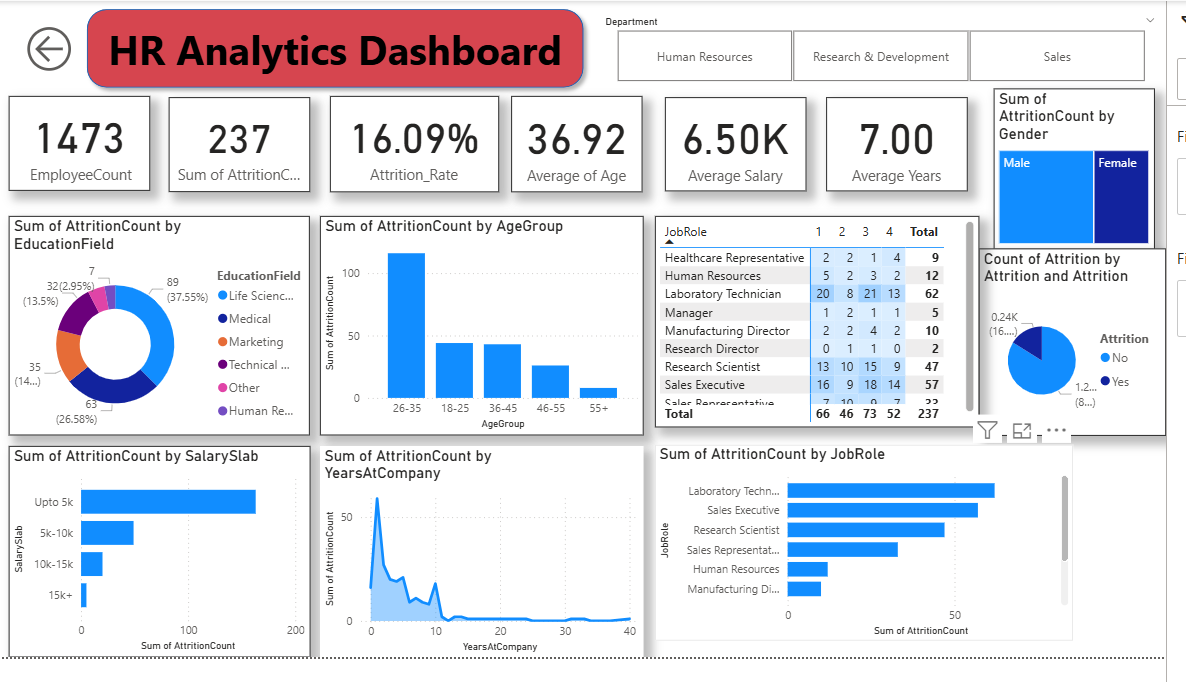

This screenshot's page, from the dashboard's own definition file:
{"tool":"powerbi","page":{"name":"HR Analytics Dashboard","canvas":[1280,720],"ordinal":1},"visuals":[{"type":"shape","box":[86.9,0,563,104.1],"z":0},{"type":"card","fields":{"Values":["Sum(HR_Analytics.EmployeeCount)"]},"box":[9.6,104.3,155.1,104.3],"z":1000},{"type":"card","fields":{"Values":["Sum(HR_Analytics.AttritionCount)"]},"box":[185.2,105.7,155.1,104.3],"z":2000},{"type":"card","fields":{"Values":["HR_Analytics.Attrition_Rate"]},"box":[362.3,104.3,185.2,105.7],"z":3000},{"type":"card","fields":{"Values":["Avg(HR_Analytics.Age)"]},"box":[561.2,104.3,144.1,105.7],"z":4000},{"type":"card","fields":{"Values":["Avg(HR_Analytics.MonthlyIncome)"]},"box":[730,105.7,155.1,102.9],"z":5000},{"type":"card","fields":{"Values":["Avg(HR_Analytics.YearsAtCompany)"]},"box":[907,105.7,155.1,102.9],"z":6000},{"type":"slicer","fields":{"Values":["HR_Analytics.Department"]},"box":[651.4,11.4,628.6,84.1],"z":7000},{"type":"treemap","fields":{"Group":["HR_Analytics.Gender"],"Values":["Sum(HR_Analytics.AttritionCount)"]},"box":[1090.4,95.5,176.7,176.7],"z":8000},{"type":"donutChart","fields":{"Y":["Sum(HR_Analytics.AttritionCount)"],"Category":["HR_Analytics.EducationField"]},"box":[10,236.6,330.7,240.9],"z":9000},{"type":"clusteredColumnChart","fields":{"Category":["HR_Analytics.AgeGroup"],"Y":["Sum(HR_Analytics.AttritionCount)"]},"box":[350.6,236.6,354.9,240.9],"z":10000},{"type":"clusteredBarChart","fields":{"Y":["Sum(HR_Analytics.AttritionCount)"],"Category":["HR_Analytics.SalarySlab"]},"box":[10,488,331,232],"z":11000},{"type":"areaChart","fields":{"Y":["Sum(HR_Analytics.AttritionCount)"],"Category":["HR_Analytics.YearsAtCompany"]},"box":[351,488,355,232],"z":12000},{"type":"pieChart","fields":{"Category":["HR_Analytics.Attrition"],"Series":["HR_Analytics.Attrition"],"Y":["CountNonNull(HR_Analytics.Attrition)"]},"box":[1074.7,272.2,205.3,205.3],"z":13000},{"type":"pivotTable","fields":{"Rows":["HR_Analytics.JobRole"],"Values":["Sum(HR_Analytics.AttritionCount)"],"Columns":["HR_Analytics.JobSatisfaction"]},"box":[718.4,236.6,356.3,232.3],"z":14000},{"type":"clusteredBarChart","fields":{"Category":["HR_Analytics.JobRole"],"Y":["Sum(HR_Analytics.AttritionCount)"]},"box":[718.4,487.5,459,215.2],"z":15000},{"type":"actionButton","box":[22.8,21.4,128.3,61.3],"z":16000}]}

Visuals, with their boxes in screenshot pixels (x1, y1, x2, y2):
shape: 73:0:588:92
card - Sum(HR_Analytics.EmployeeCount): 3:92:144:188
card - Sum(HR_Analytics.AttritionCount): 163:93:305:189
card - HR_Analytics.Attrition_Rate: 325:92:494:189
card - Avg(HR_Analytics.Age): 507:92:638:189
card - Avg(HR_Analytics.MonthlyIncome): 661:93:803:188
card - Avg(HR_Analytics.YearsAtCompany): 823:93:964:188
slicer - HR_Analytics.Department: 589:7:1163:84
treemap - HR_Analytics.Gender x Sum(HR_Analytics.AttritionCount): 990:84:1152:246
donutChart - Sum(HR_Analytics.AttritionCount) x HR_Analytics.EducationField: 3:213:305:433
clusteredColumnChart - HR_Analytics.AgeGroup x Sum(HR_Analytics.AttritionCount): 314:213:638:433
clusteredBarChart - Sum(HR_Analytics.AttritionCount) x HR_Analytics.SalarySlab: 3:443:305:655
areaChart - Sum(HR_Analytics.AttritionCount) x HR_Analytics.YearsAtCompany: 315:443:639:655
pieChart - HR_Analytics.Attrition x HR_Analytics.Attrition: 976:246:1163:433
pivotTable - HR_Analytics.JobRole x Sum(HR_Analytics.AttritionCount): 650:213:976:425
clusteredBarChart - HR_Analytics.JobRole x Sum(HR_Analytics.AttritionCount): 650:442:1070:639
actionButton: 15:16:132:72
